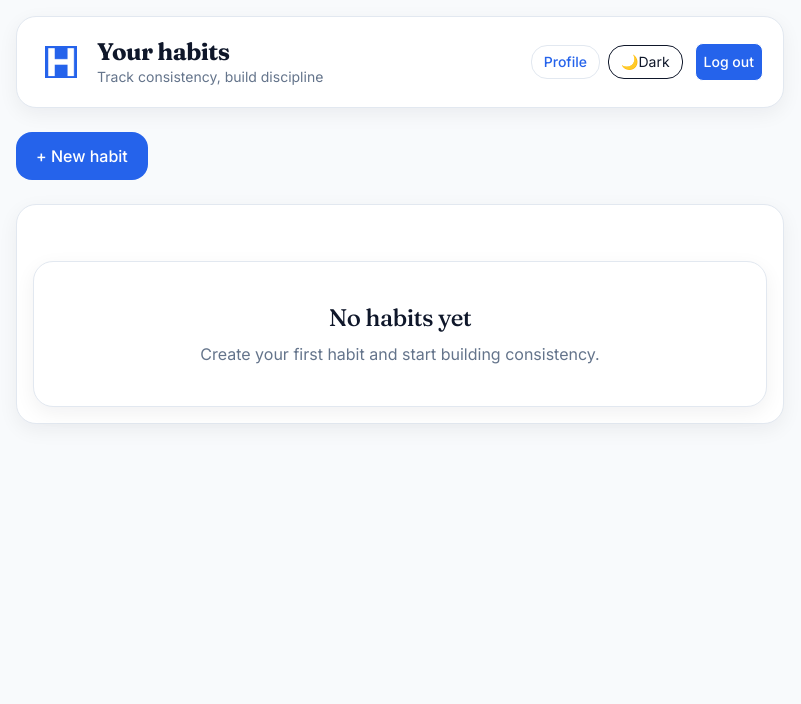
Test: habit form › creates a new habit and renders it in the list
Click the button with test id "create-habit-button" at (82, 156), box [16,132,148,180]
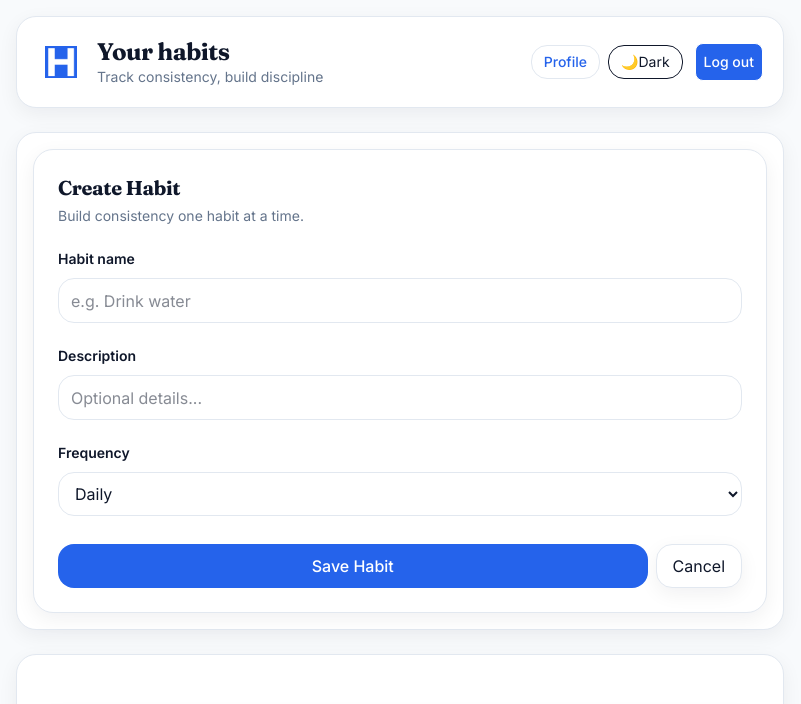
Type "Drink Water" into the field with test id "habit-name-input" at (400, 301), box [58,278,742,323]
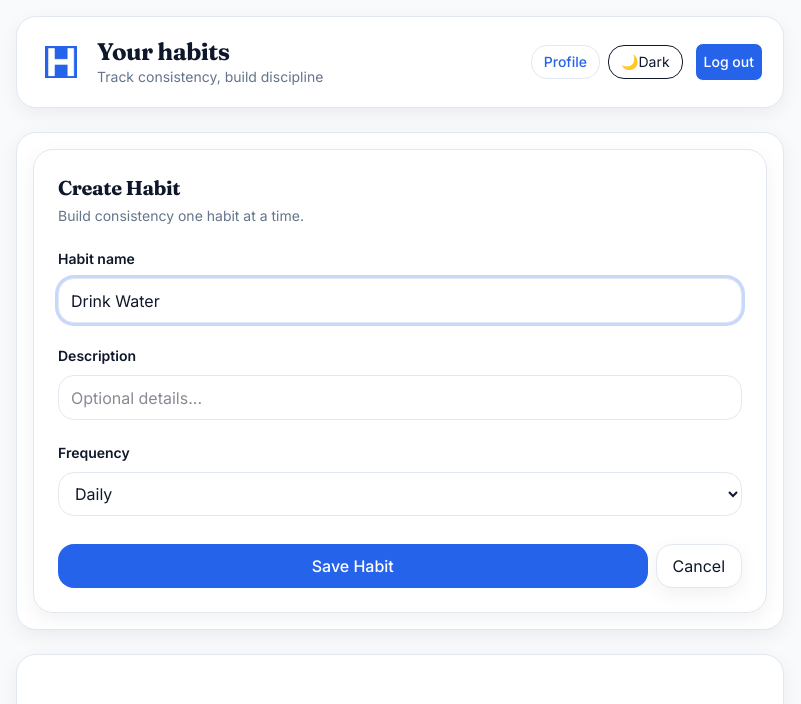
Click the button with test id "habit-save-button" at (353, 566), box [58,544,648,588]
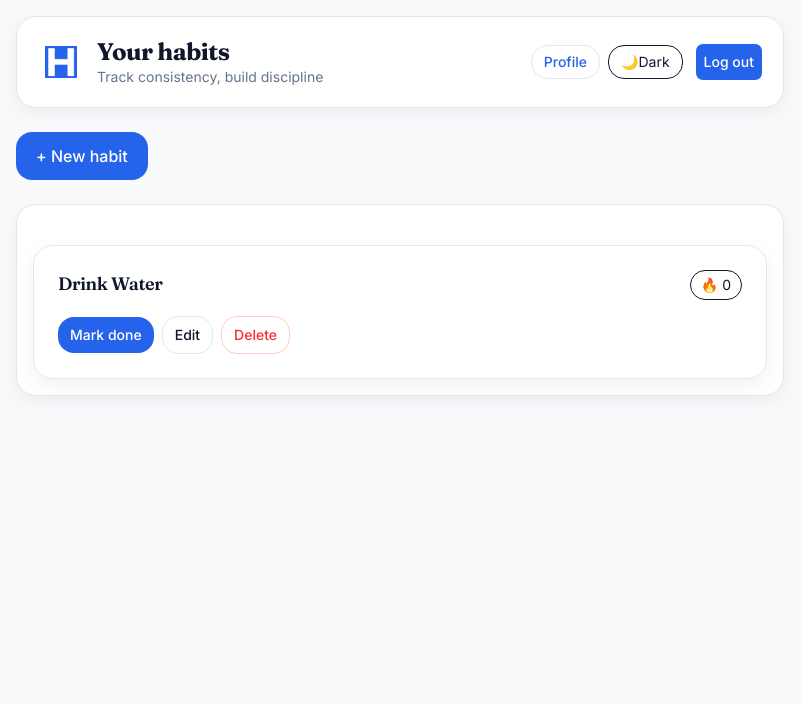
Now the element with test id "habit-card-drink-water" is shown, box [33,245,767,379]
